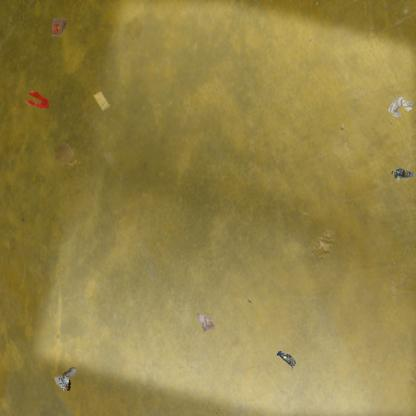dirty: (53, 365, 78, 394), (386, 95, 415, 119), (275, 348, 298, 370), (49, 16, 69, 39), (92, 90, 112, 112), (388, 166, 415, 182), (196, 312, 216, 332)
liquid: (22, 90, 50, 110), (54, 142, 76, 167)
